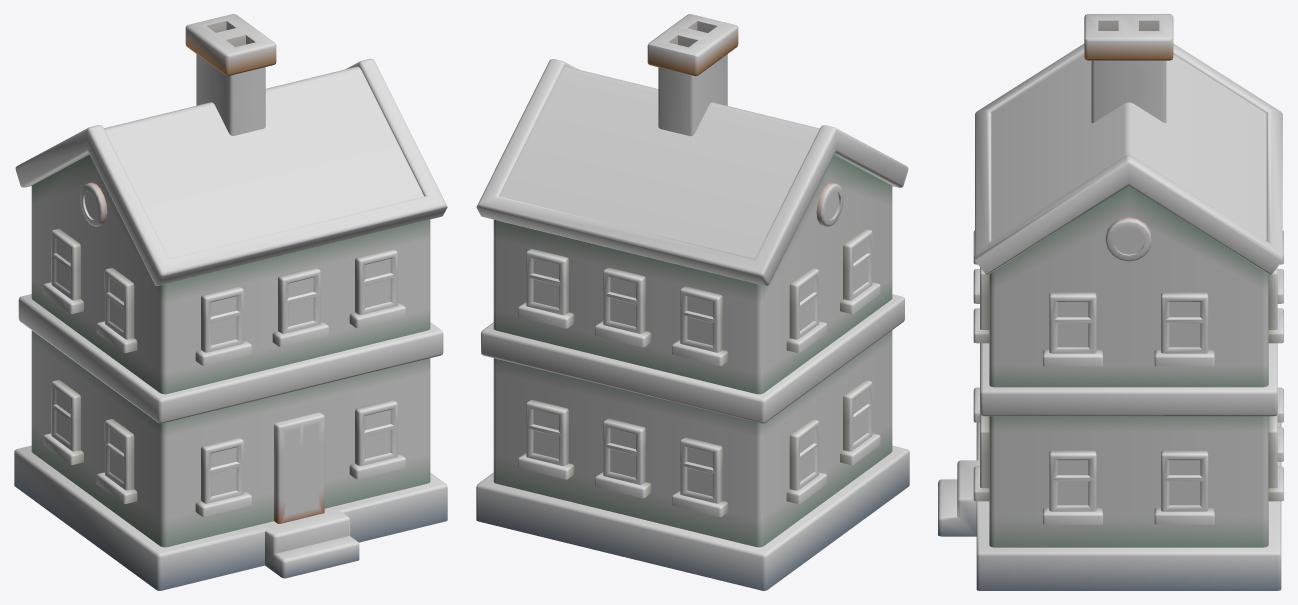
The model's file is NF_Bld_House 29.fbx.
3 views of the same model, side by side, from view 1: azimuth 30°, elevation 25°; view 2: azimuth 150°, elevation 25°; view 3: azimuth 270°, elevation 25° (orthographic). The views are drawn at different scales.
Visible parts, largest first — view 1: House_29; view 2: House_29; view 3: House_29.
Boxes of the visible parts, bbox=[...] form: House_29: bbox=[14, 14, 447, 590]; House_29: bbox=[476, 14, 909, 590]; House_29: bbox=[938, 14, 1283, 590].
Bounding box in the file's own units: 7.66 × 11.64 × 7.43.
